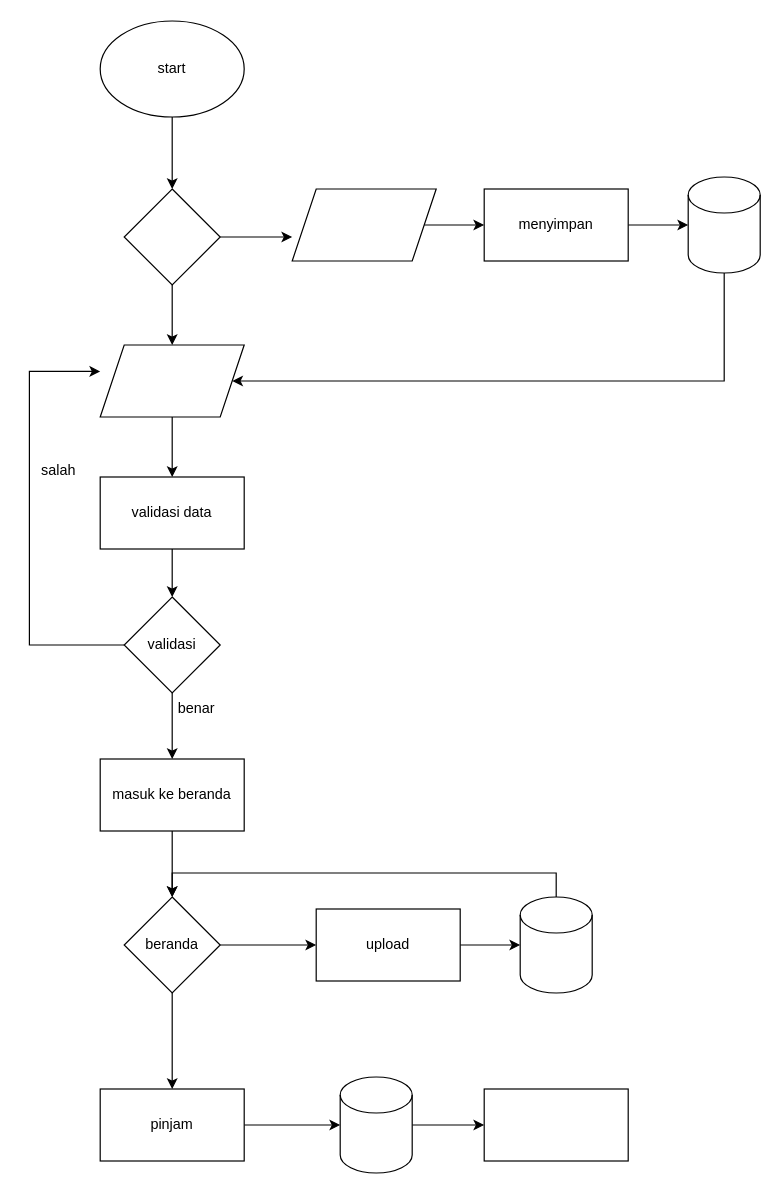
Some shapes in this 781 by 1194 pixel diagram are drawn without their labels. The shapes that lost their labels are listed below. From the top down, each one's centre as x and y in pixels, then its label:
At (171,236): "login/regist".
At (363,224): "regist".
At (723,224): "data base".
At (171,380): "login".
